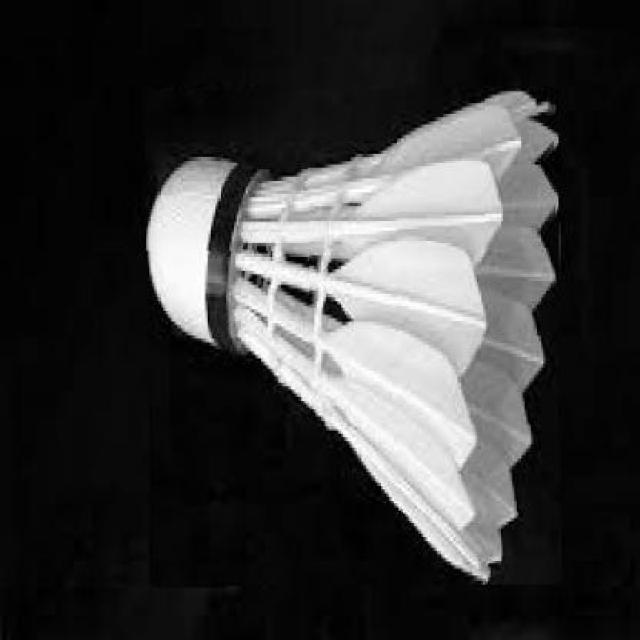Shuttlecock: (147, 85, 554, 580)
